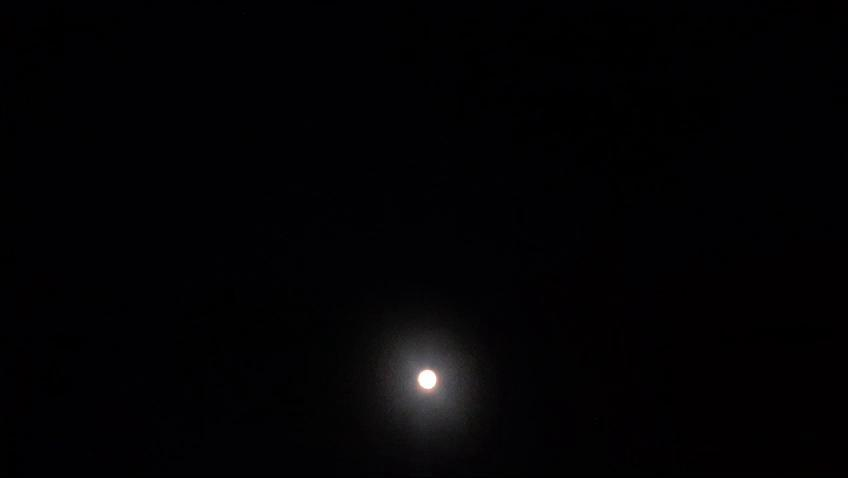moon: (425, 370, 455, 395)
